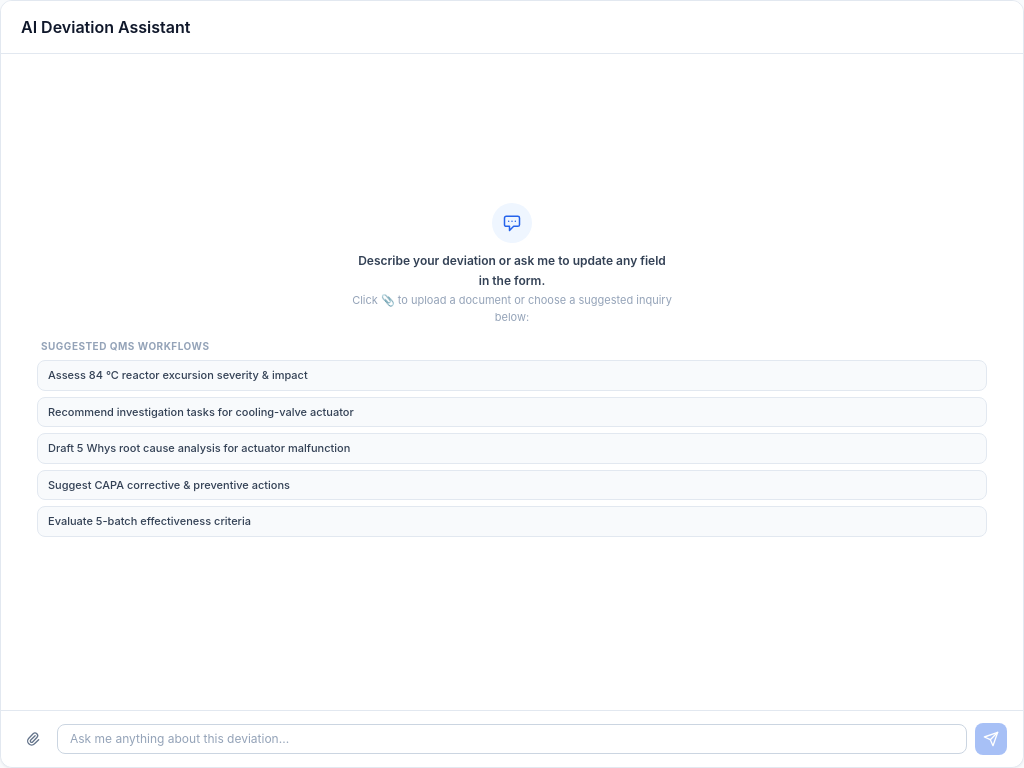
Scenario: AiAssistantPanel - AI Deviation Assistant › 5. manual edit and chat edit coexist cleanly
(page scrolled)
# Chat modifies site
Type "Set the site to Demo Manufacturing Site." into the field with placeholder "Ask me anything about this deviation...".
click(512, 739); type("Set the site to Demo Manufacturing Site.")  # box [57,724,967,754]
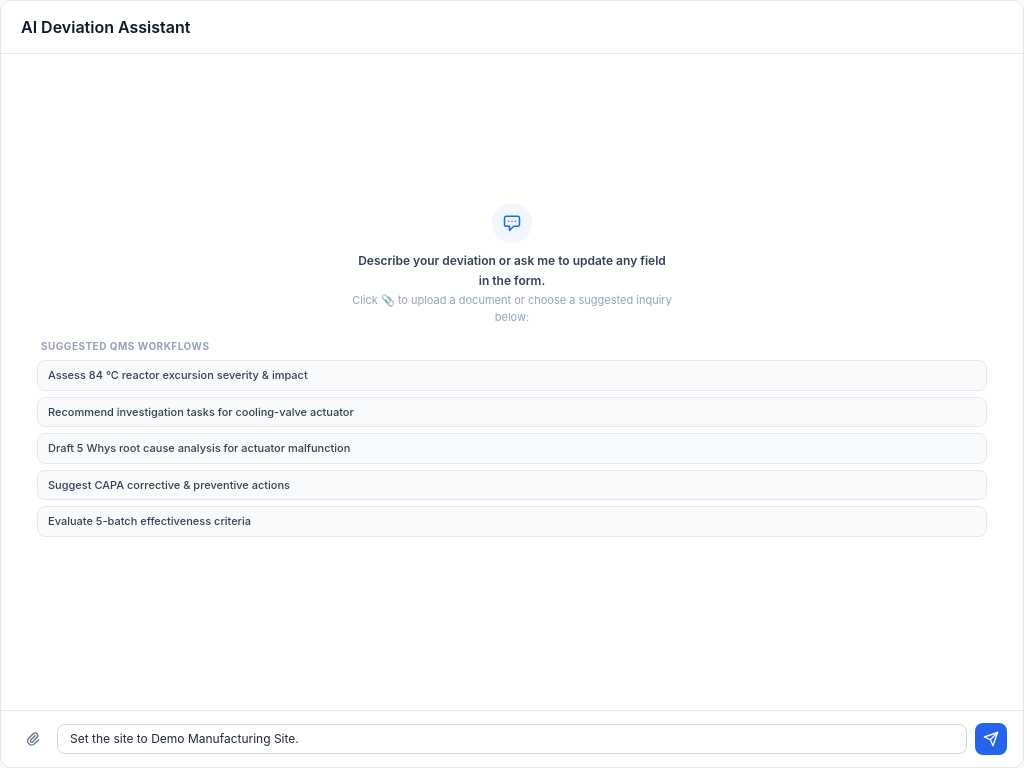
Click the button named "Send message".
click(991, 739)  # box [975,723,1007,755]
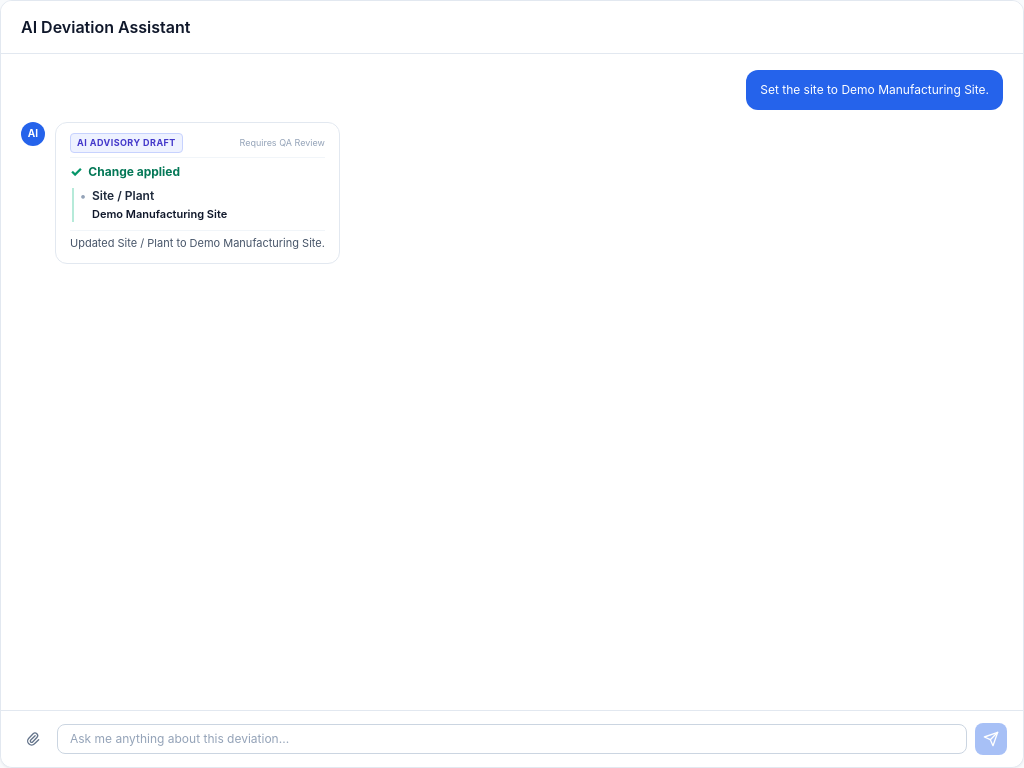
Check: the text "Updated Site / Plant to Demo Manufacturing Site." is shown, box [70,230,325,253]
Check: the text "Demo Manufacturing Site" is shown, box [92,207,227,221]
